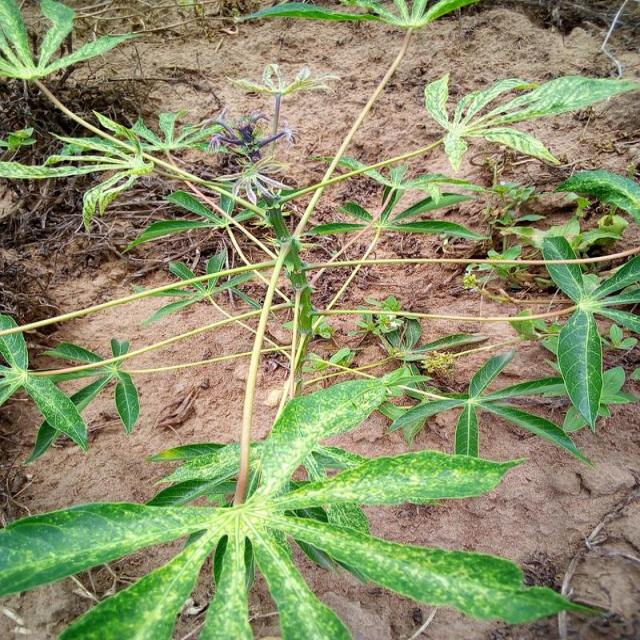cassava leaf: (0, 4, 638, 637), (0, 367, 607, 637), (556, 307, 603, 433)
